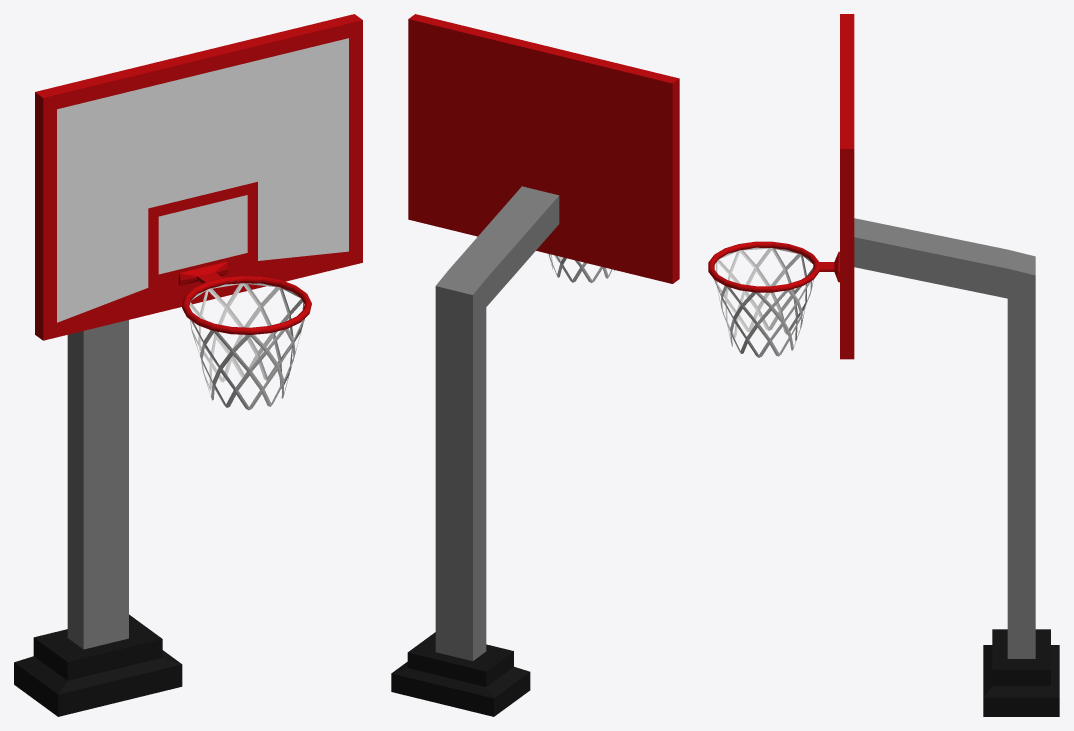
Rendered from basketballkorbNew.fbx.
3 views of the same model, side by side, from view 1: azimuth 30°, elevation 25°; view 2: azimuth 150°, elevation 25°; view 3: azimuth 270°, elevation 25° (orthographic). The views are drawn at different scales.
Parts seen in each view (by area): view 1: Cube, Torus.001, Torus; view 2: Cube, Torus.001; view 3: Cube, Torus.001, Torus.
Boxes of the visible parts, box(x1,y1,x2,y2) form: Cube: box(14, 14, 362, 716); Torus.001: box(189, 283, 304, 410); Torus: box(178, 261, 311, 334); Cube: box(391, 14, 679, 716); Torus.001: box(548, 254, 614, 282); Cube: box(840, 14, 1059, 716); Torus.001: box(714, 247, 813, 357); Torus: box(708, 241, 839, 292).
Bounding box in the file's own units: 200 × 420 × 220.
